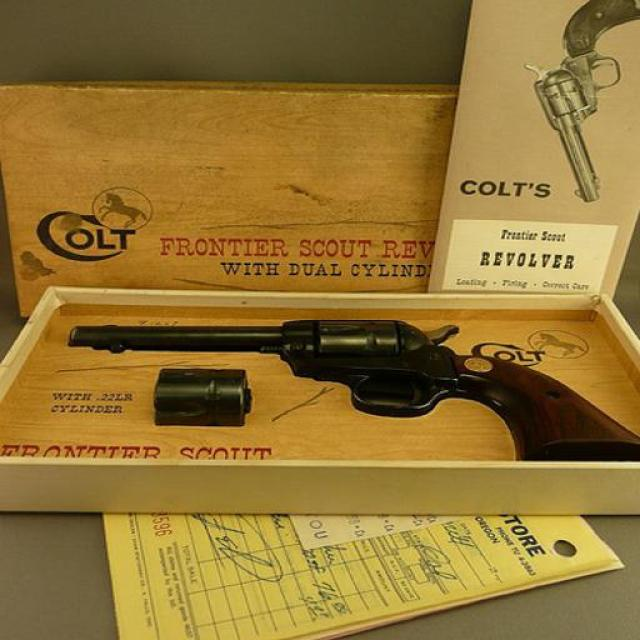pistol: (67, 320, 636, 460)
